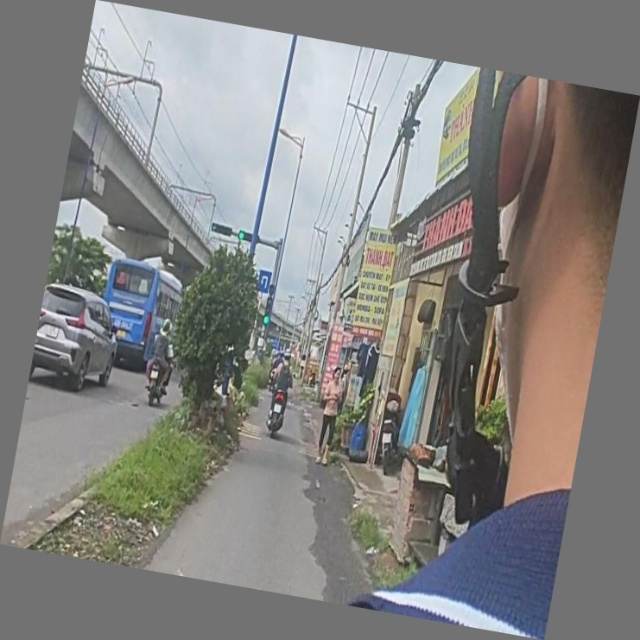I.409: (256, 266, 275, 295)
